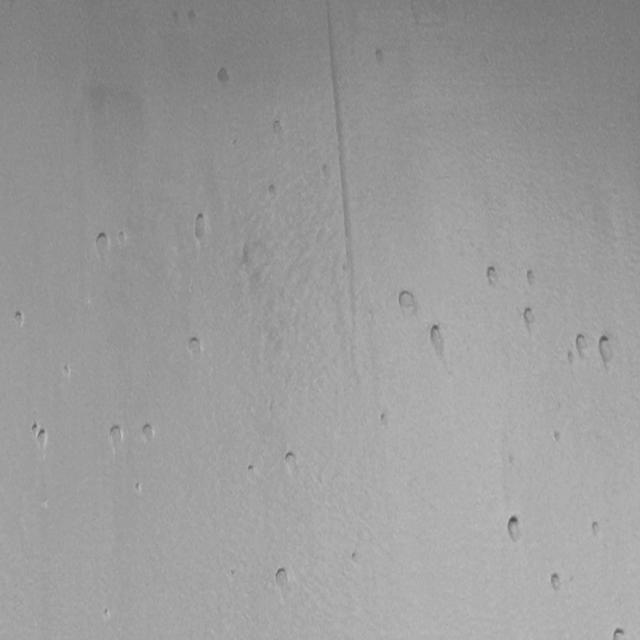pin holes: (594, 332, 620, 372), (424, 320, 448, 362), (570, 332, 594, 364), (191, 210, 213, 244), (394, 287, 419, 316), (504, 514, 526, 546), (90, 230, 112, 262), (105, 422, 127, 451), (183, 334, 205, 362), (272, 565, 294, 592), (279, 450, 300, 476), (214, 64, 236, 88), (520, 306, 540, 332), (548, 570, 568, 595), (484, 264, 503, 288), (137, 423, 156, 446), (270, 118, 288, 142), (588, 519, 606, 542), (523, 267, 539, 291), (37, 426, 52, 450), (11, 309, 29, 329), (610, 624, 632, 640), (377, 408, 393, 430), (373, 46, 388, 68), (186, 7, 201, 27), (320, 162, 333, 181), (266, 183, 280, 200), (61, 363, 74, 381), (551, 430, 564, 447), (118, 230, 130, 247), (244, 463, 257, 478), (348, 549, 361, 564), (100, 608, 112, 624), (132, 480, 144, 494), (228, 568, 240, 581), (30, 421, 40, 436)
